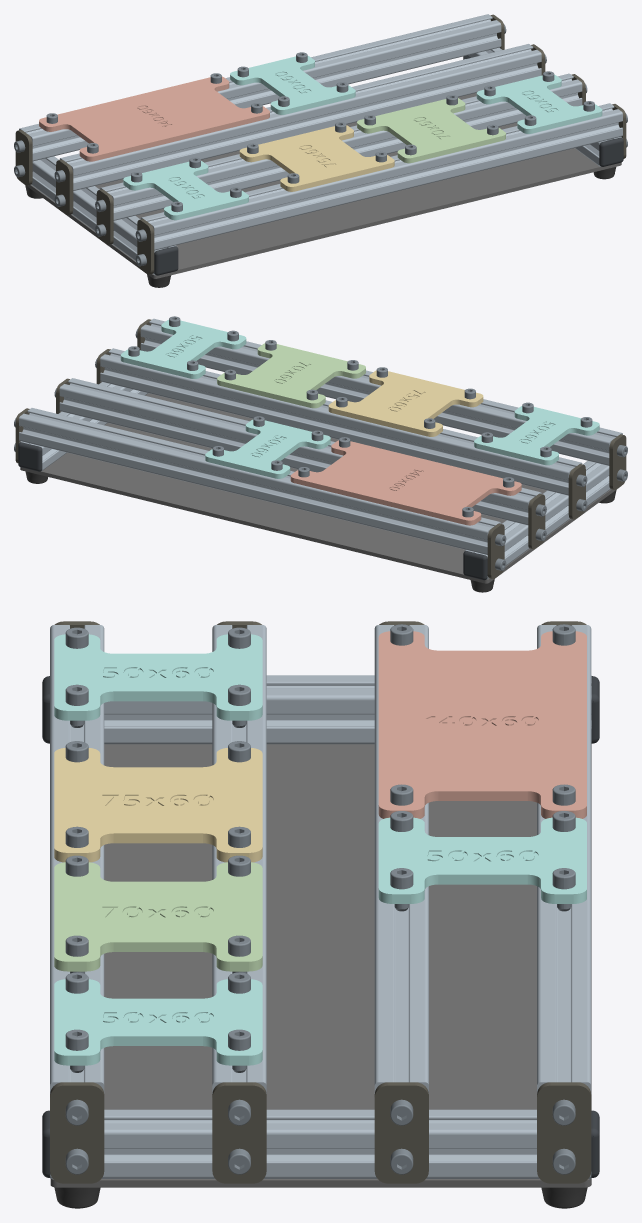
Rendered from Pedalboard_Assembly.glb.
The picture shows the model from 3 angles, top to bottom: view 1: azimuth 30°, elevation 25°; view 2: azimuth 150°, elevation 25°; view 3: azimuth 270°, elevation 25°; orthographic projection. The views are drawn at different scales.
Visible parts, largest first — view 1: empty_31, empty_29, empty_30, empty_34, empty_10, empty_50, empty_46, empty_65, empty_28, empty_17, empty_19, empty_32 (+7 smaller); view 2: empty_10, empty_29, empty_50, empty_34, empty_31, empty_30, empty_46, empty_65, empty_17, empty_28, empty_19, empty_32 (+7 smaller); view 3: empty_29, empty_34, empty_26, empty_46, empty_65, empty_32, empty_19, empty_28, empty_17, empty_31, empty_10, empty_30 (+7 smaller).
Boxes of the visible parts, x1,y1,x2,y2 form: empty_31: (59, 44, 541, 190); empty_29: (21, 93, 621, 278); empty_30: (141, 103, 622, 250); empty_34: (39, 76, 269, 161); empty_10: (19, 14, 501, 161); empty_50: (100, 73, 582, 220); empty_46: (239, 125, 394, 191); empty_65: (357, 98, 505, 163); empty_28: (476, 74, 602, 133); empty_17: (230, 56, 355, 114); empty_19: (123, 161, 248, 220); empty_32: (31, 156, 177, 275); empty_10: (19, 408, 501, 554); empty_29: (20, 393, 620, 583); empty_50: (100, 348, 582, 495); empty_34: (290, 440, 521, 525); empty_31: (59, 378, 541, 525); empty_30: (140, 318, 622, 465); empty_46: (328, 370, 483, 436); empty_65: (217, 343, 365, 408); empty_17: (205, 419, 330, 478); empty_28: (120, 319, 246, 378); empty_19: (474, 406, 599, 465); empty_32: (464, 461, 610, 579); empty_29: (50, 744, 591, 1187); empty_34: (378, 631, 586, 818); empty_26: (50, 1109, 591, 1178); empty_46: (54, 748, 262, 862); empty_65: (54, 862, 262, 971); empty_32: (104, 675, 591, 744); empty_19: (54, 634, 262, 720); empty_28: (54, 979, 262, 1065); empty_17: (378, 817, 586, 903); empty_31: (374, 625, 428, 1093); empty_10: (537, 625, 591, 1093); empty_30: (50, 625, 104, 1093).
Size of the model in its own units: 416 by 61.9 by 206.
